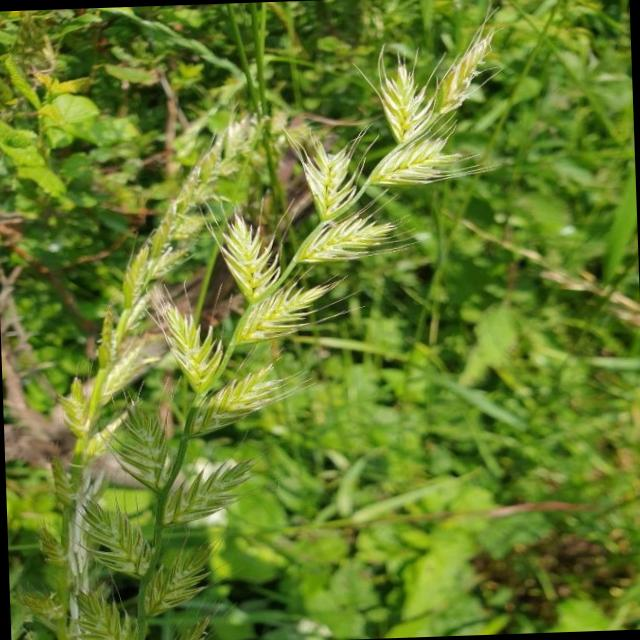Lolium: (106, 28, 519, 640), (38, 107, 277, 640)
